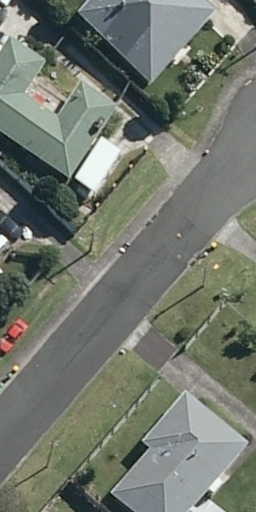DT: (82, 224, 105, 256)
